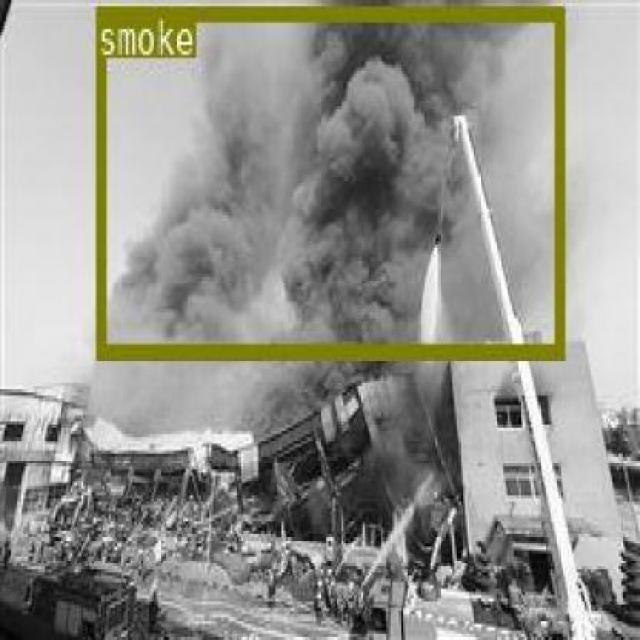smoke: (95, 4, 563, 355)
